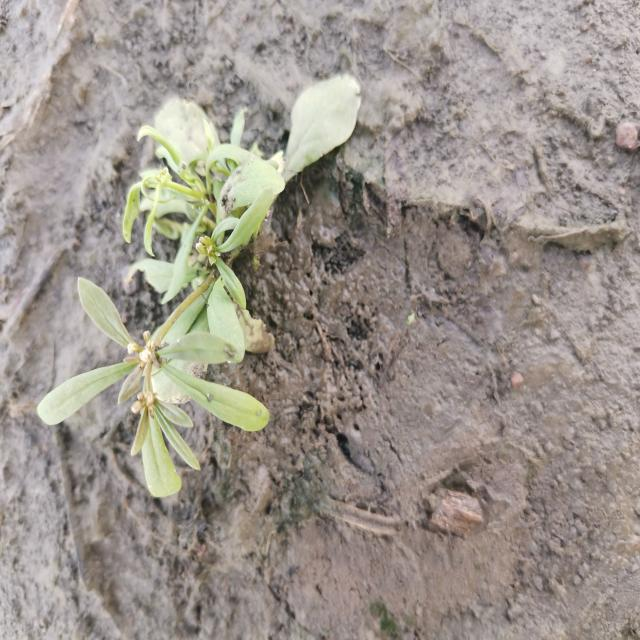Carpetweed: (35, 73, 363, 500)
